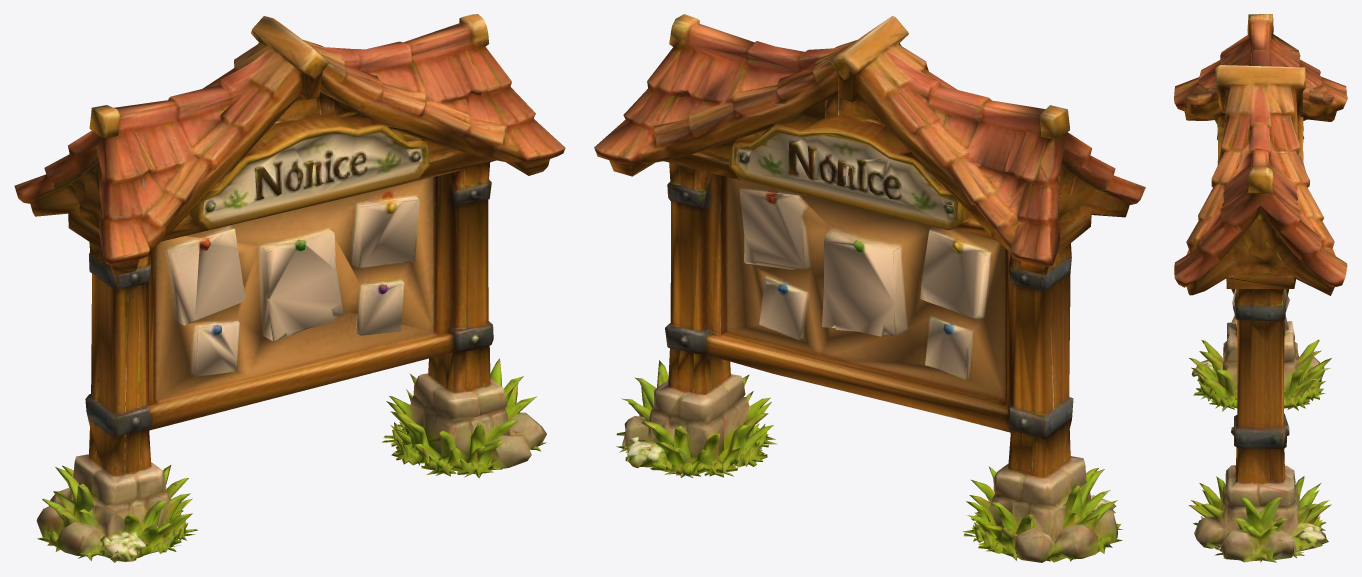
File: notice-board.glb
The picture shows the model from 3 angles, left to right: view 1: azimuth 30°, elevation 25°; view 2: azimuth 150°, elevation 25°; view 3: azimuth 270°, elevation 25°; orthographic projection. The views are drawn at different scales.
Visible parts, largest first — view 1: Mesh1.0; view 2: Mesh1.0; view 3: Mesh1.0.
Boxes of the visible parts, x1=… form: Mesh1.0: x1=14, y1=14, x2=565, y2=562; Mesh1.0: x1=594, y1=14, x2=1145, y2=562; Mesh1.0: x1=1174, y1=14, x2=1347, y2=562.
Bounding box in the file's own units: 1.9 × 1.7 × 0.6752.
Materials: 1 (1 with a texture image).
